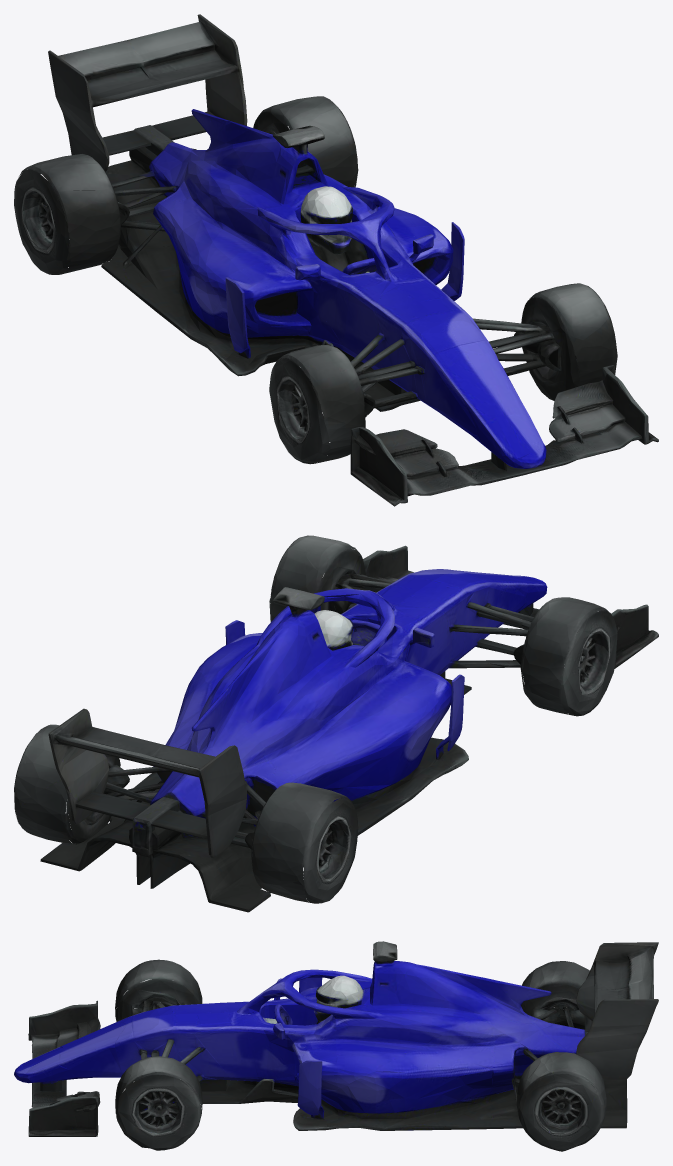
The model's file is formel.glb.
3 views of the same model, one above another, from view 1: azimuth 30°, elevation 25°; view 2: azimuth 150°, elevation 25°; view 3: azimuth 270°, elevation 25° (orthographic). The views are drawn at different scales.
Parts seen in each view (by area): view 1: koerper, rad_vr, rad_hr, rad_vl; view 2: koerper, rad_vr, rad_hr, rad_vl; view 3: koerper, rad_hl, rad_vl, rad_vr.
Part boxes in pixels (<box>): koerper: <box>19,14,658,506</box>; rad_vr: <box>269,358,367,464</box>; rad_hr: <box>14,169,120,274</box>; rad_vl: <box>521,297,617,400</box>; koerper: <box>14,535,658,912</box>; rad_vr: <box>520,610,617,716</box>; rad_hr: <box>251,798,358,903</box>; rad_vl: <box>269,548,366,622</box>; koerper: <box>14,941,658,1151</box>; rad_hl: <box>518,1073,603,1151</box>; rad_vl: <box>116,1074,201,1150</box>; rad_vr: <box>115,978,198,1021</box>.
Size of the model in its own units: 2.31 by 1.39 by 5.47.
1 material, 1 textured.
